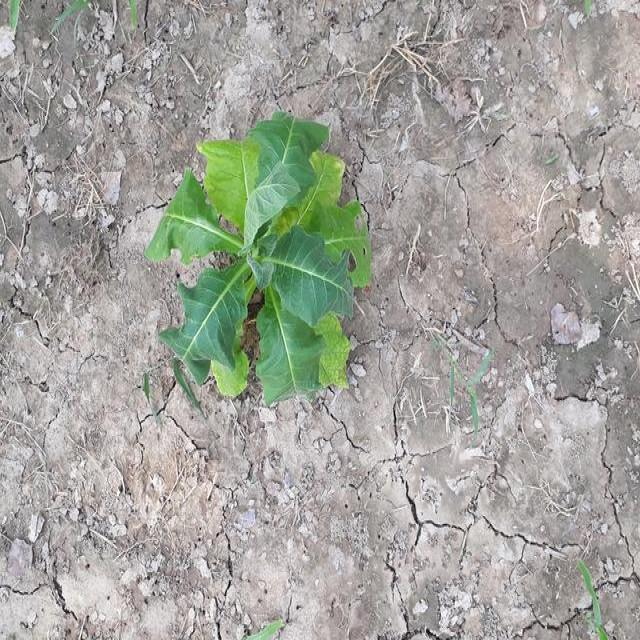crop: (150, 116, 368, 392)
